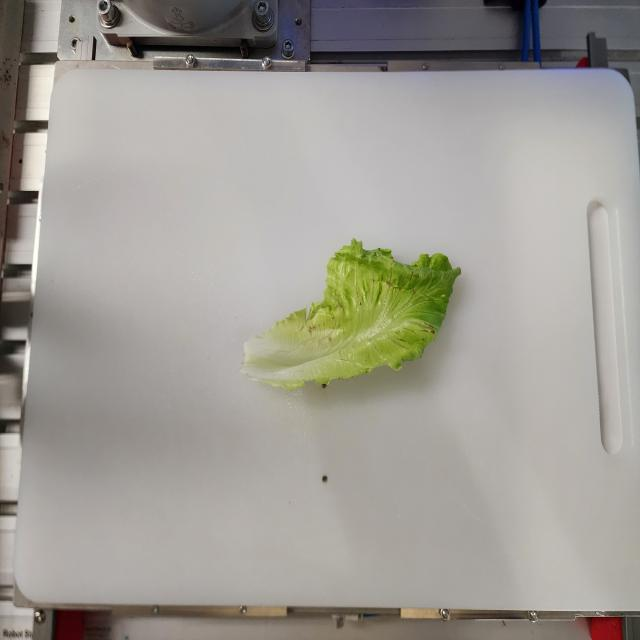lettuce: (238, 236, 462, 392)
